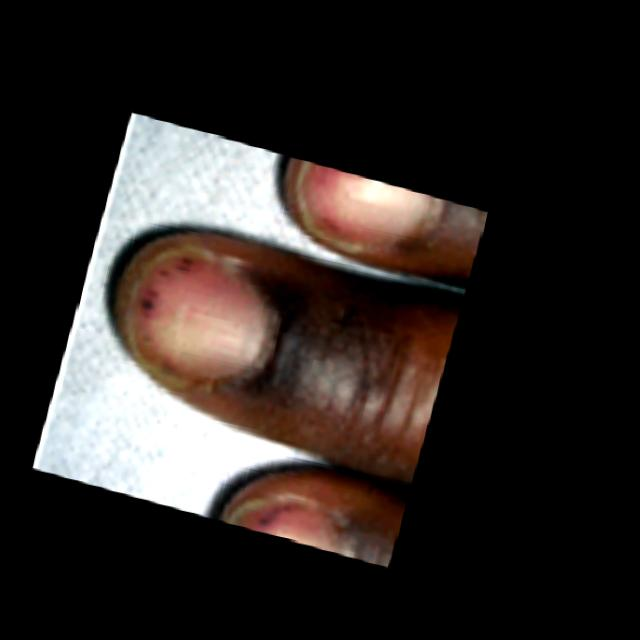Nail: (128, 252, 269, 382)
